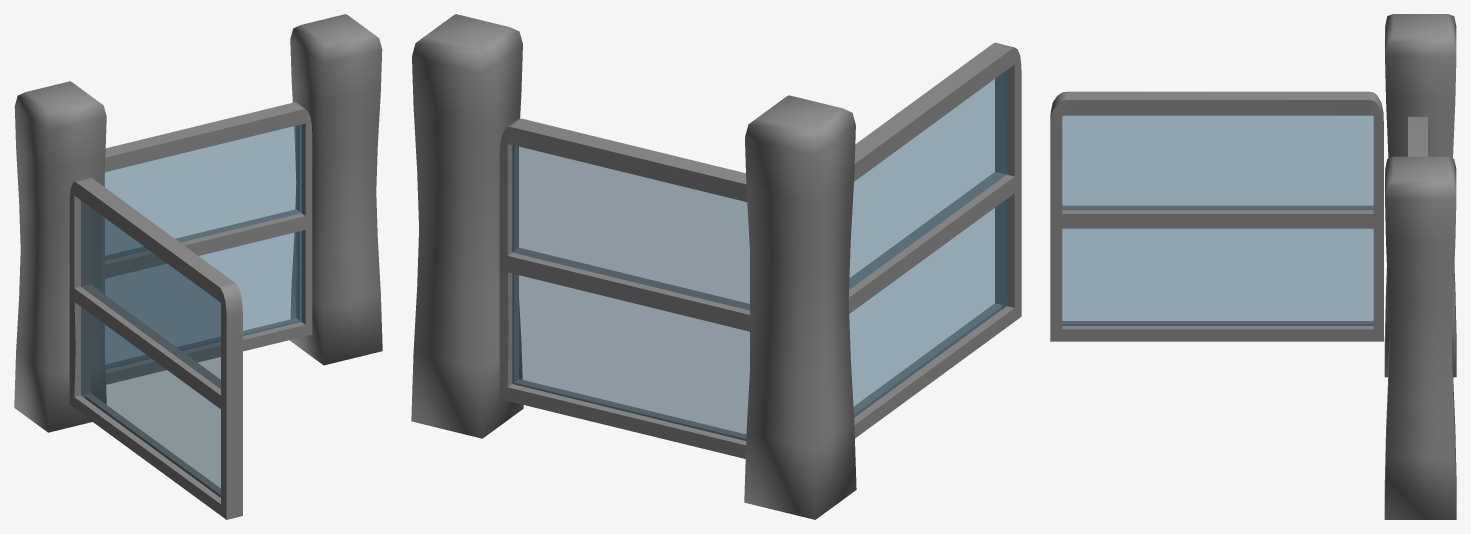
The model's file is GlassHalfWall_RightCorner_SplitBorder.glb.
3 views of the same model, side by side, from view 1: azimuth 30°, elevation 25°; view 2: azimuth 150°, elevation 25°; view 3: azimuth 270°, elevation 25° (orthographic). The views are drawn at different scales.
Parts seen in each view (by area): view 1: 5-StraightGlassBorder.012, 5-StraightGlassBorder.013, 3-PostNARROWER.012, 3-PostNARROWER.010; view 2: 5-StraightGlassBorder.012, 5-StraightGlassBorder.013, 3-PostNARROWER.010, 3-PostNARROWER.012; view 3: 5-StraightGlassBorder.013, 3-PostNARROWER.012, 3-PostNARROWER.010, 5-StraightGlassBorder.012.
Boxes of the visible parts, x1=… form: 5-StraightGlassBorder.012: x1=100, y1=102, x2=312, y2=384; 5-StraightGlassBorder.013: x1=69, y1=177, x2=242, y2=519; 3-PostNARROWER.012: x1=289, y1=14, x2=382, y2=365; 3-PostNARROWER.010: x1=14, y1=81, x2=106, y2=432; 5-StraightGlassBorder.012: x1=499, y1=118, x2=751, y2=458; 5-StraightGlassBorder.013: x1=848, y1=42, x2=1021, y2=438; 3-PostNARROWER.010: x1=744, y1=95, x2=856, y2=519; 3-PostNARROWER.012: x1=411, y1=14, x2=523, y2=438; 5-StraightGlassBorder.013: x1=1050, y1=91, x2=1383, y2=341; 3-PostNARROWER.012: x1=1384, y1=156, x2=1456, y2=519; 3-PostNARROWER.010: x1=1384, y1=14, x2=1456, y2=377; 5-StraightGlassBorder.012: x1=1407, y1=116, x2=1427, y2=156.
Size of the model in its own units: 1.1 by 0.9929 by 1.09.
3 materials, 3 textured.
